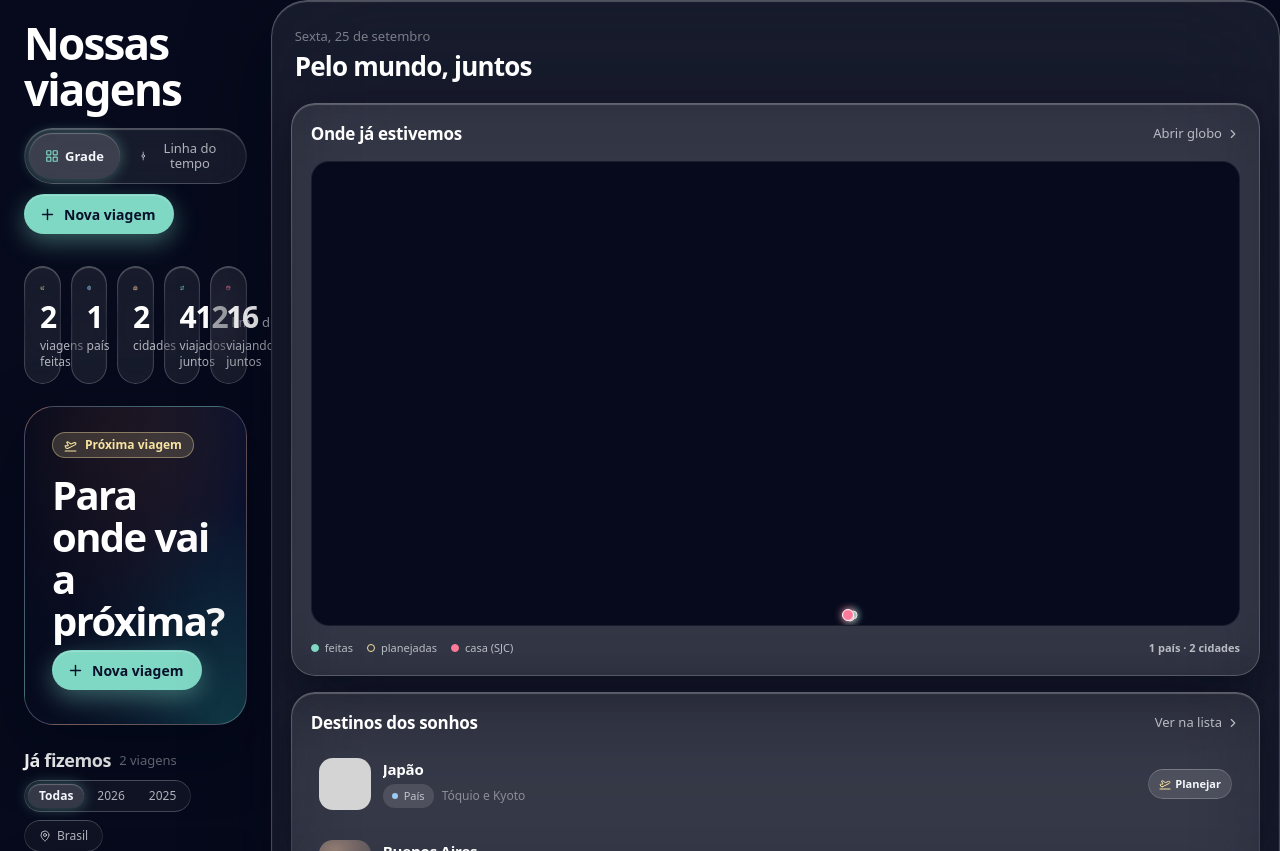
Test: A10 — Próxima viagem (R5) › sem próxima nem em andamento: "Para onde vai a próxima?" com Nova viagem
The width and height of the screenshot is (1280, 851).
Expected: the element "Próxima viagem" shows "Para onde vai a próxima?", [52,467,224,648]
Click the button "Nova viagem" below "Para onde vai a próxima?". click: (127, 670)
box: [52,650,202,690]
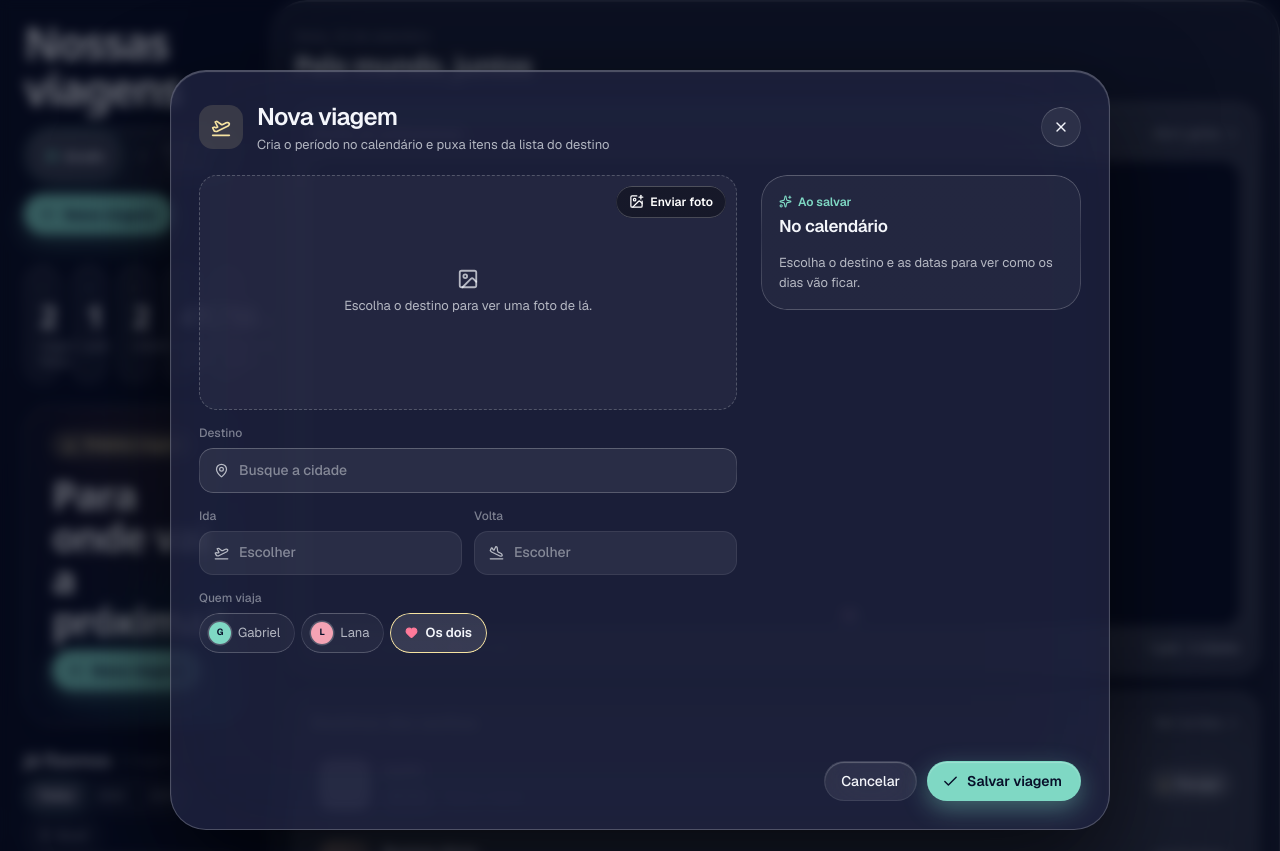
Expected: the dialog "Nova viagem" is shown
